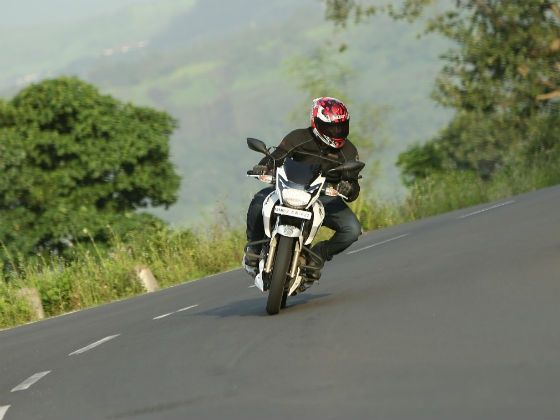helmet: (310, 97, 355, 149)
